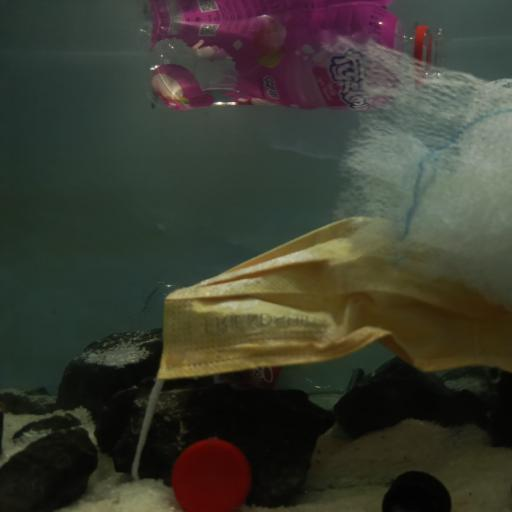bottle_cap: (172, 440, 252, 512), (383, 468, 450, 512)
mask: (141, 214, 512, 408)
net: (331, 34, 512, 311)
plastic_bottle: (132, 15, 444, 114), (142, 279, 368, 391)
